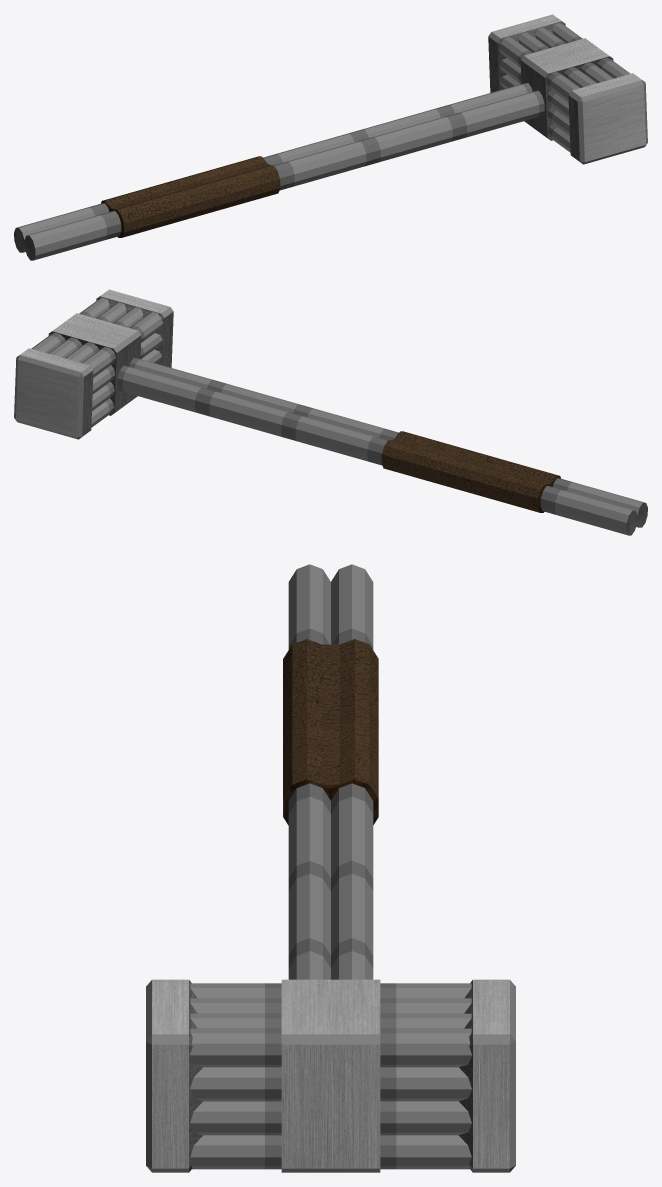
File: WorldItem_RebarHammer.fbx
3 renders of one model, top to bottom at view 1: azimuth 30°, elevation 25°; view 2: azimuth 150°, elevation 25°; view 3: azimuth 270°, elevation 25°, orthographic. The views are drawn at different scales.
Parts seen in each view (by area): view 1: ZomboidRebarHammer; view 2: ZomboidRebarHammer; view 3: ZomboidRebarHammer.
Boxes of the visible parts, x1=… form: ZomboidRebarHammer: x1=14, y1=14, x2=647, y2=260; ZomboidRebarHammer: x1=14, y1=289, x2=647, y2=535; ZomboidRebarHammer: x1=146, y1=564, x2=515, y2=1172.
Bounding box in the file's own units: 0.7022 × 0.0816 × 0.1944.
